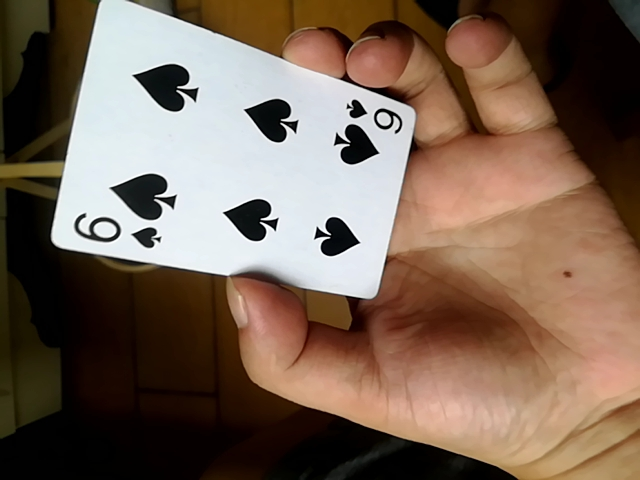ht 6: (53, 1, 421, 308)
